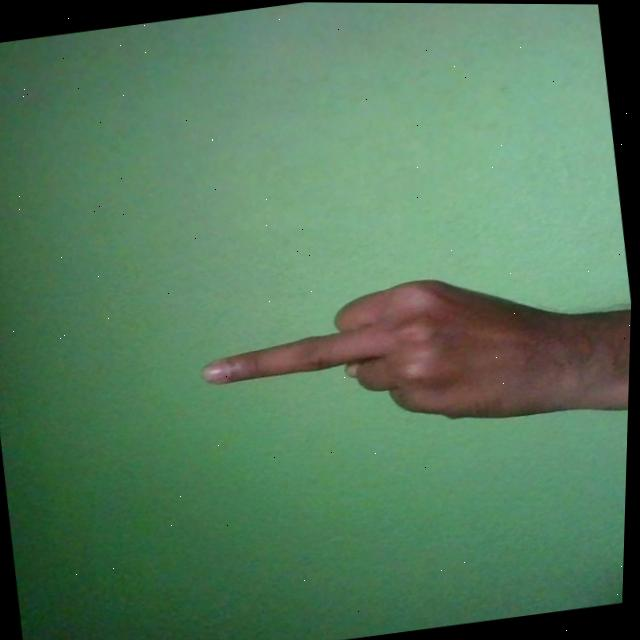Middle Finger: (192, 250, 634, 460)
